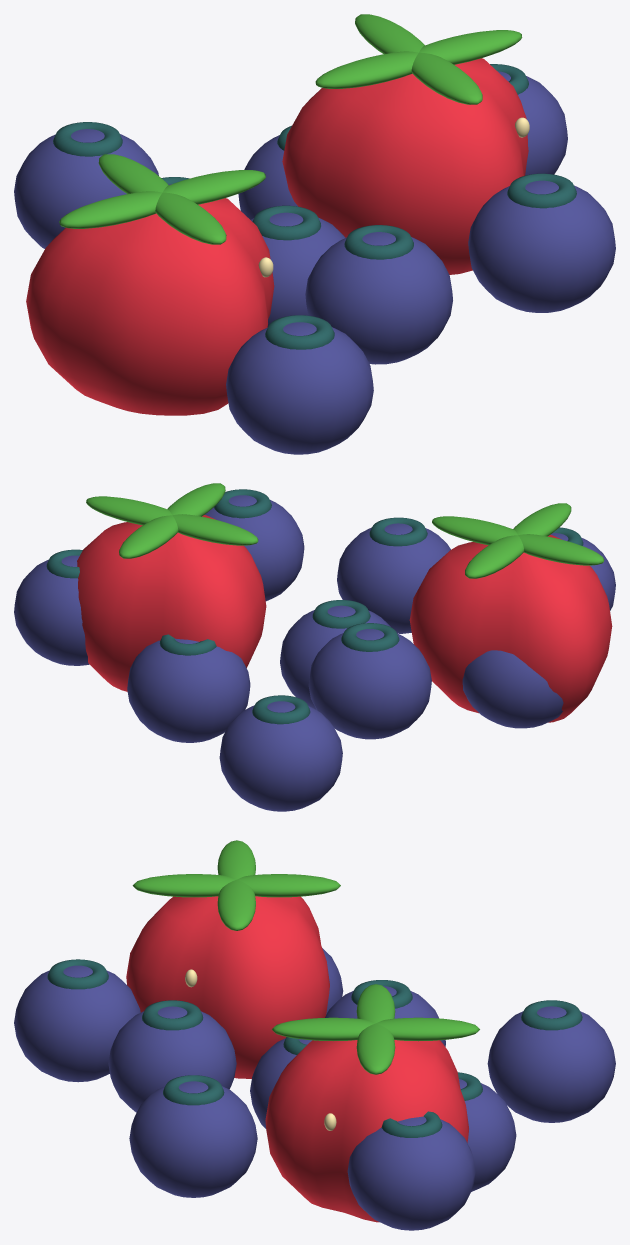
Rendered from berries.glb.
3 renders of one model, top to bottom at view 1: azimuth 30°, elevation 25°; view 2: azimuth 150°, elevation 25°; view 3: azimuth 270°, elevation 25°, orthographic. The views are drawn at different scales.
Visible parts, largest first — view 1: berries_mesh; view 2: berries_mesh; view 3: berries_mesh.
Boxes of the visible parts, x1,y1,x2,y2 form: berries_mesh: [14, 14, 615, 454]; berries_mesh: [14, 483, 615, 811]; berries_mesh: [14, 840, 615, 1230].
Size of the model in its own units: 0.1983 by 0.0692 by 0.1947.
